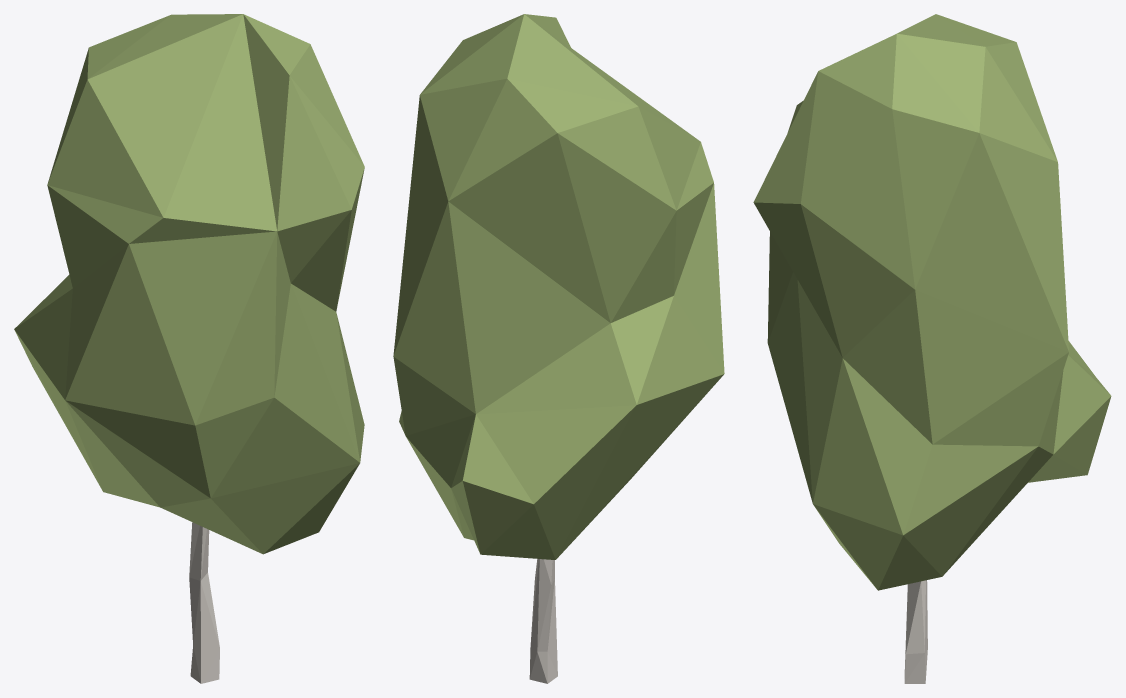
The model's file is BetulaPapyrifera.glb.
3 views of the same model, side by side, from view 1: azimuth 30°, elevation 25°; view 2: azimuth 150°, elevation 25°; view 3: azimuth 270°, elevation 25° (orthographic). The views are drawn at different scales.
Visible parts, largest first — view 1: Crown, Trunk; view 2: Crown, Trunk; view 3: Crown, Trunk.
Part boxes in pixels (box(x1,y1,x2,y2)): Crown: box(14, 14, 364, 554); Trunk: box(189, 522, 219, 683); Crown: box(393, 14, 724, 559); Trunk: box(529, 559, 557, 683); Crown: box(753, 14, 1111, 590); Trunk: box(904, 580, 927, 683).
Bounding box in the file's own units: 11.24 × 22.57 × 11.09.
